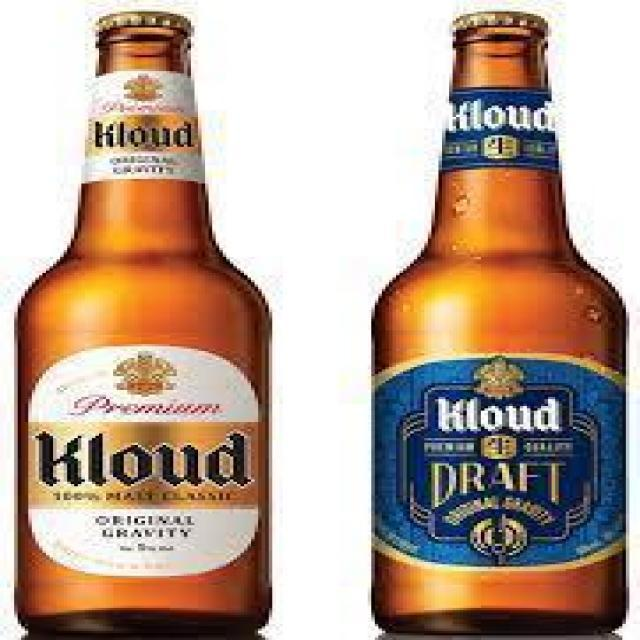beer-bottle: (357, 7, 640, 640), (16, 4, 274, 640)
